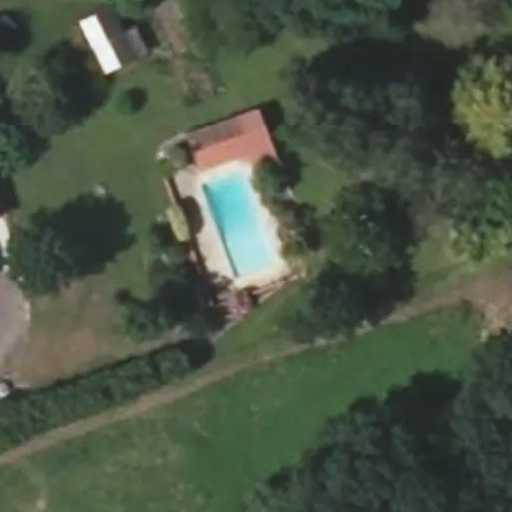pool: (217, 205, 294, 278)
